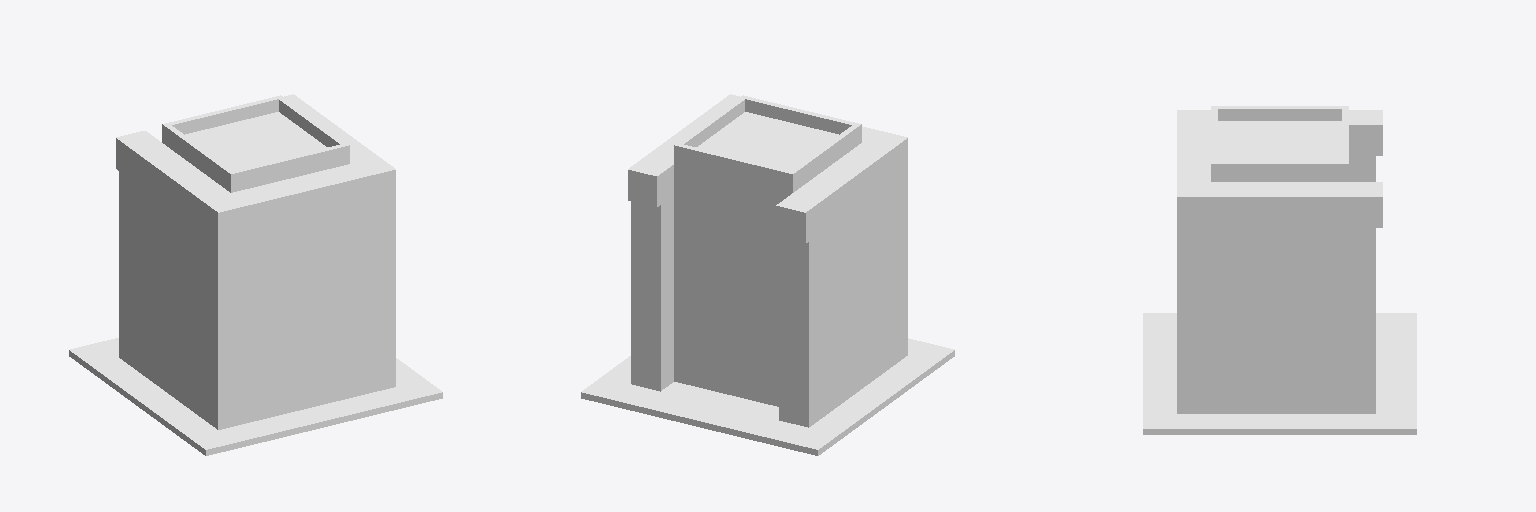
The model's file is officeBuilding1.obj.
3 renders of one model, left to right at view 1: azimuth 30°, elevation 25°; view 2: azimuth 150°, elevation 25°; view 3: azimuth 270°, elevation 25°, orthographic.
Visible parts, largest first — view 1: officeBuilding1; view 2: officeBuilding1; view 3: officeBuilding1.
Part boxes in pixels (left/top/right/bottom): officeBuilding1: left=69, top=94, right=442, bottom=455; officeBuilding1: left=581, top=94, right=954, bottom=455; officeBuilding1: left=1143, top=106, right=1416, bottom=434.
Bounding box in the file's own units: 40 × 39 × 40.